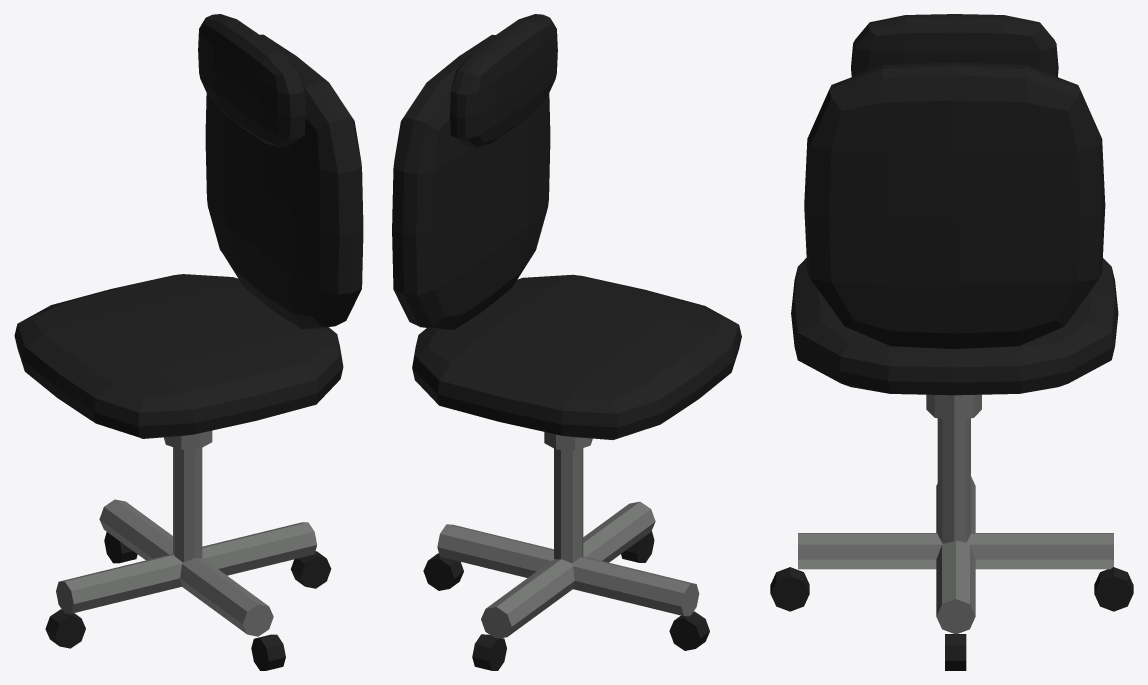
File: SillaEscritorio.fbx
The picture shows the model from 3 angles, left to right: view 1: azimuth 30°, elevation 25°; view 2: azimuth 150°, elevation 25°; view 3: azimuth 270°, elevation 25°; orthographic projection. The views are drawn at different scales.
Visible parts, largest first — view 1: SillaEscritorio; view 2: SillaEscritorio; view 3: SillaEscritorio.
Part boxes in pixels (x1,y1,x2,y2): SillaEscritorio: (14,14,363,670); SillaEscritorio: (392,14,741,670); SillaEscritorio: (770,14,1133,670).
Bounding box in the file's own units: 62.9 × 123 × 65.03.
